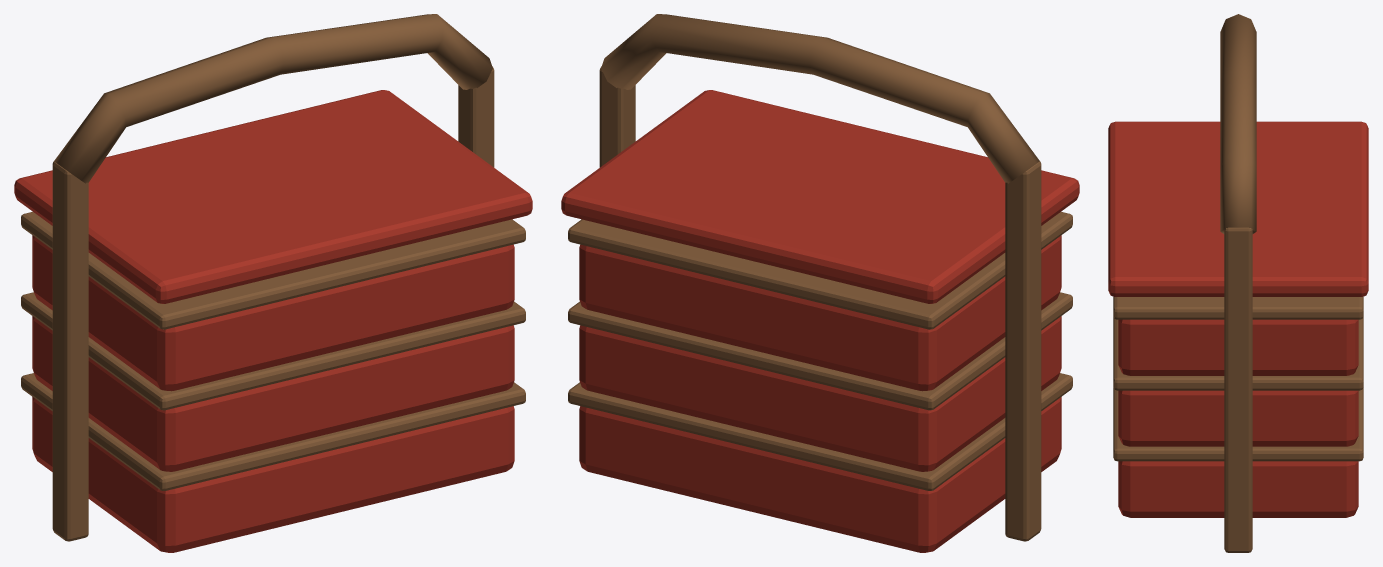
Rendered from tavara-ruokalaatikko.glb.
3 renders of one model, left to right at view 1: azimuth 30°, elevation 25°; view 2: azimuth 150°, elevation 25°; view 3: azimuth 270°, elevation 25°, orthographic. The views are drawn at different scales.
Visible parts, largest first — view 1: tavara-ruokalaatikko; view 2: tavara-ruokalaatikko; view 3: tavara-ruokalaatikko.
Part boxes in pixels (x1,y1,x2,y2): tavara-ruokalaatikko: [14, 14, 532, 552]; tavara-ruokalaatikko: [561, 14, 1079, 552]; tavara-ruokalaatikko: [1108, 14, 1368, 552].
Size of the model in its own units: 0.4368 by 0.433 by 0.26.
